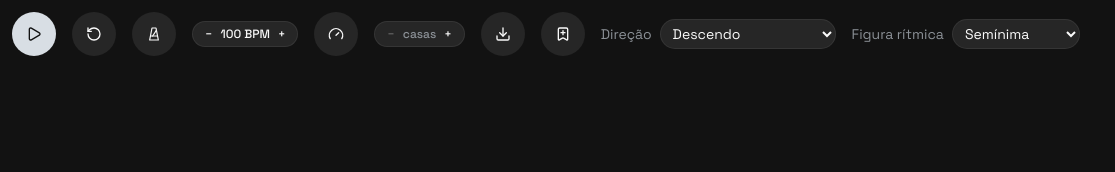
it: ControlBar › walking an exercise up the neck › adds one more position on each press, and shows how many
Click the button named "repetir uma casa acima". click: click(448, 34)
box: [444,26,452,42]
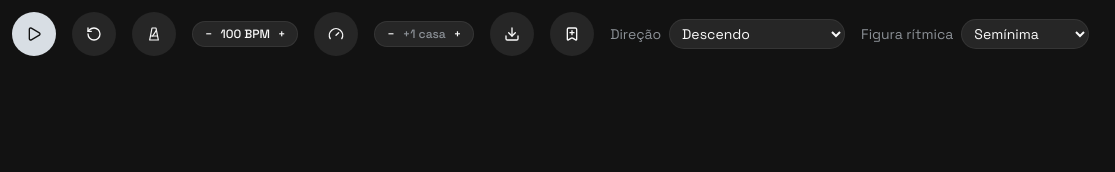
Click the button named "repetir uma casa acima". click: click(457, 34)
box: [454,26,461,42]
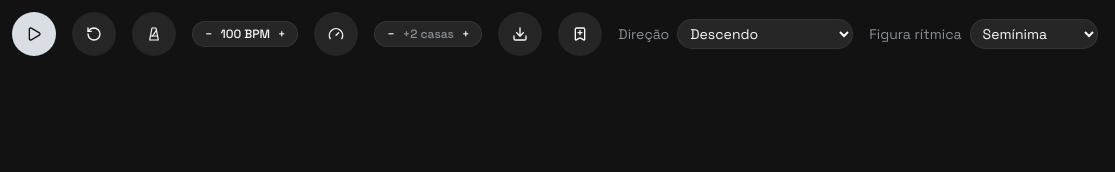
Expected: the text "+2 casas" is shown, [403,26,454,42]
